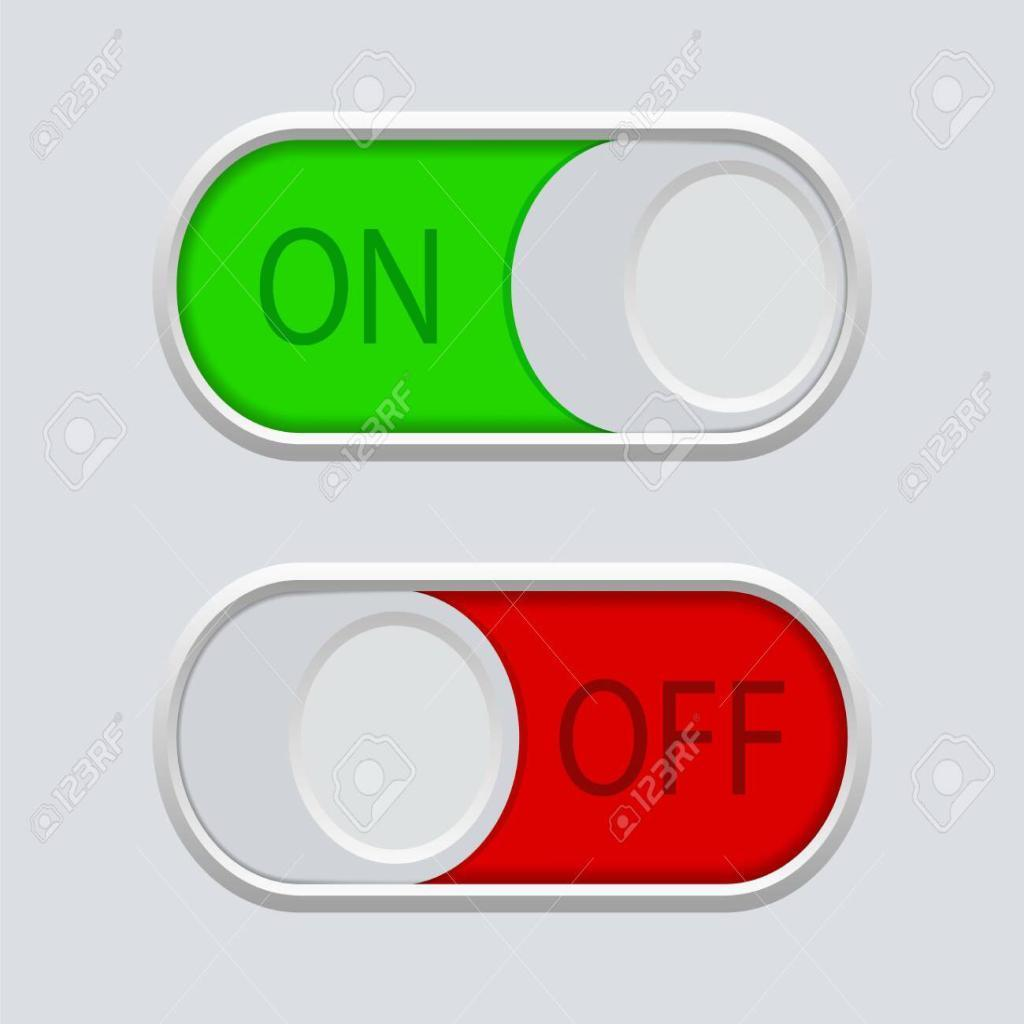switch: (152, 560, 873, 917), (152, 111, 876, 464)
